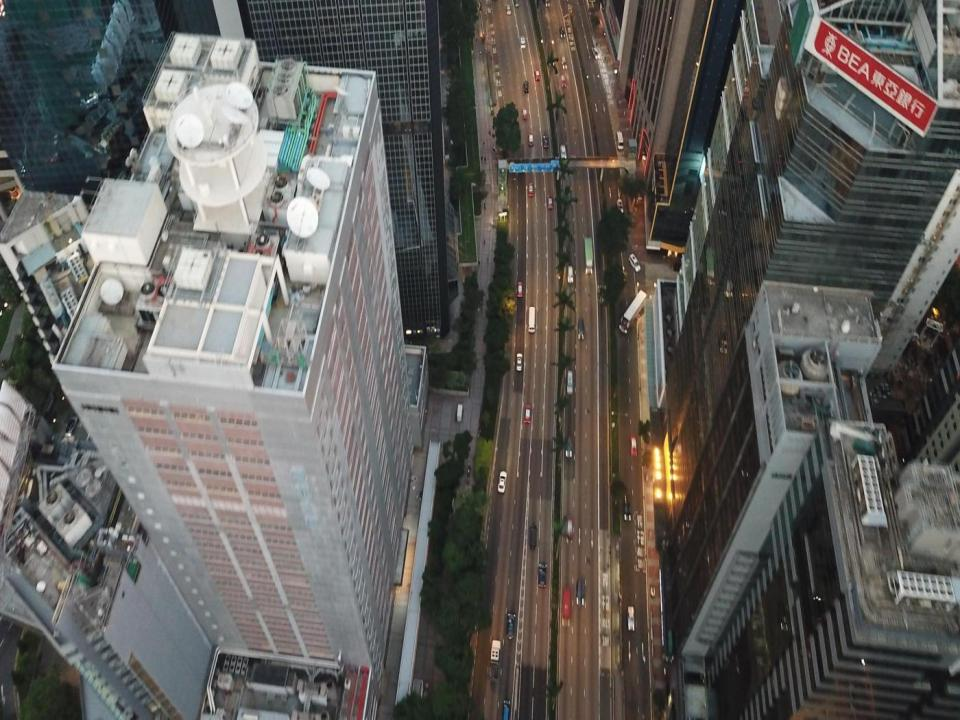car: (506, 613, 515, 639), (538, 563, 547, 587), (624, 496, 632, 521), (498, 470, 507, 492), (566, 516, 574, 539), (628, 605, 635, 630), (565, 437, 573, 457), (516, 353, 522, 371), (591, 47, 600, 58), (516, 281, 522, 297), (560, 74, 567, 87), (560, 144, 566, 159), (525, 405, 530, 422), (528, 182, 534, 196), (546, 195, 552, 209), (616, 199, 622, 213), (542, 135, 548, 148), (534, 68, 540, 80), (528, 134, 534, 146), (559, 26, 565, 38), (561, 56, 567, 68), (522, 107, 527, 119)
truck: (620, 290, 648, 334), (488, 640, 501, 680), (583, 236, 594, 274), (562, 586, 571, 620), (528, 306, 535, 333), (616, 131, 624, 150)
van: (628, 253, 641, 272), (528, 526, 537, 550), (576, 579, 584, 606), (566, 370, 574, 394), (630, 435, 637, 457), (502, 700, 510, 719), (578, 318, 584, 339), (518, 36, 526, 48), (568, 265, 573, 282), (524, 80, 530, 94), (506, 4, 511, 14), (514, 0, 519, 6)
